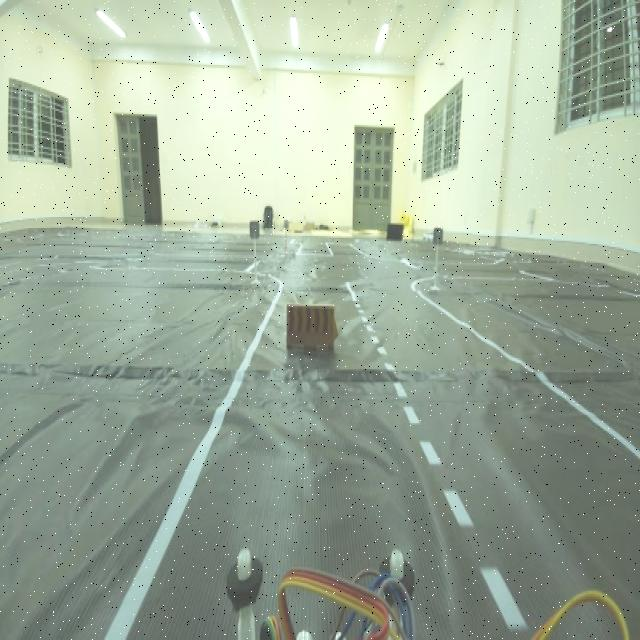roadblock: (280, 300, 346, 376)
